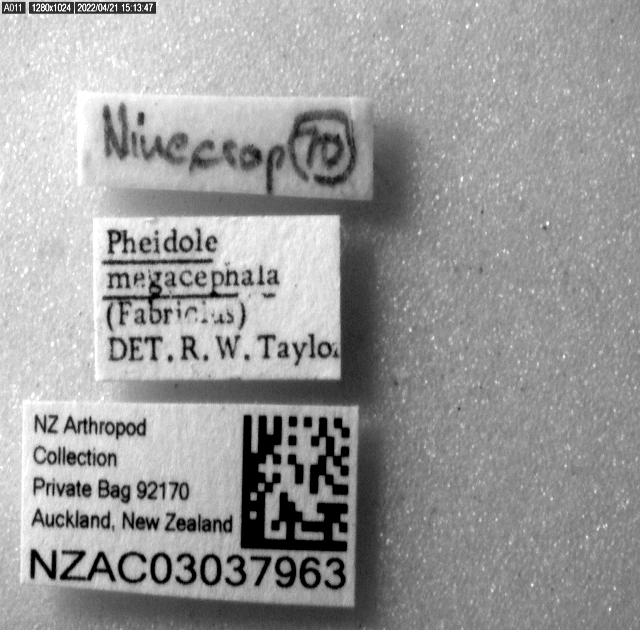hand_label: (78, 92, 372, 200)
typed_label: (21, 402, 358, 606), (94, 216, 341, 380)
